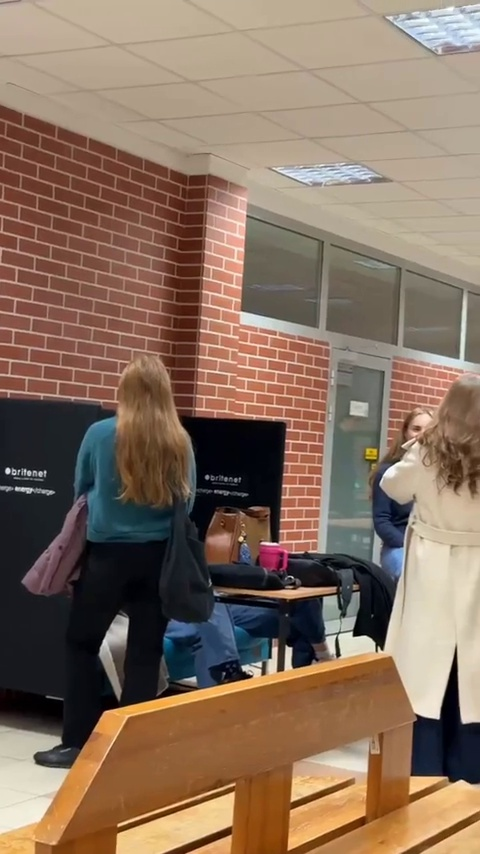no vest: (71, 356, 202, 721), (377, 375, 480, 731)
